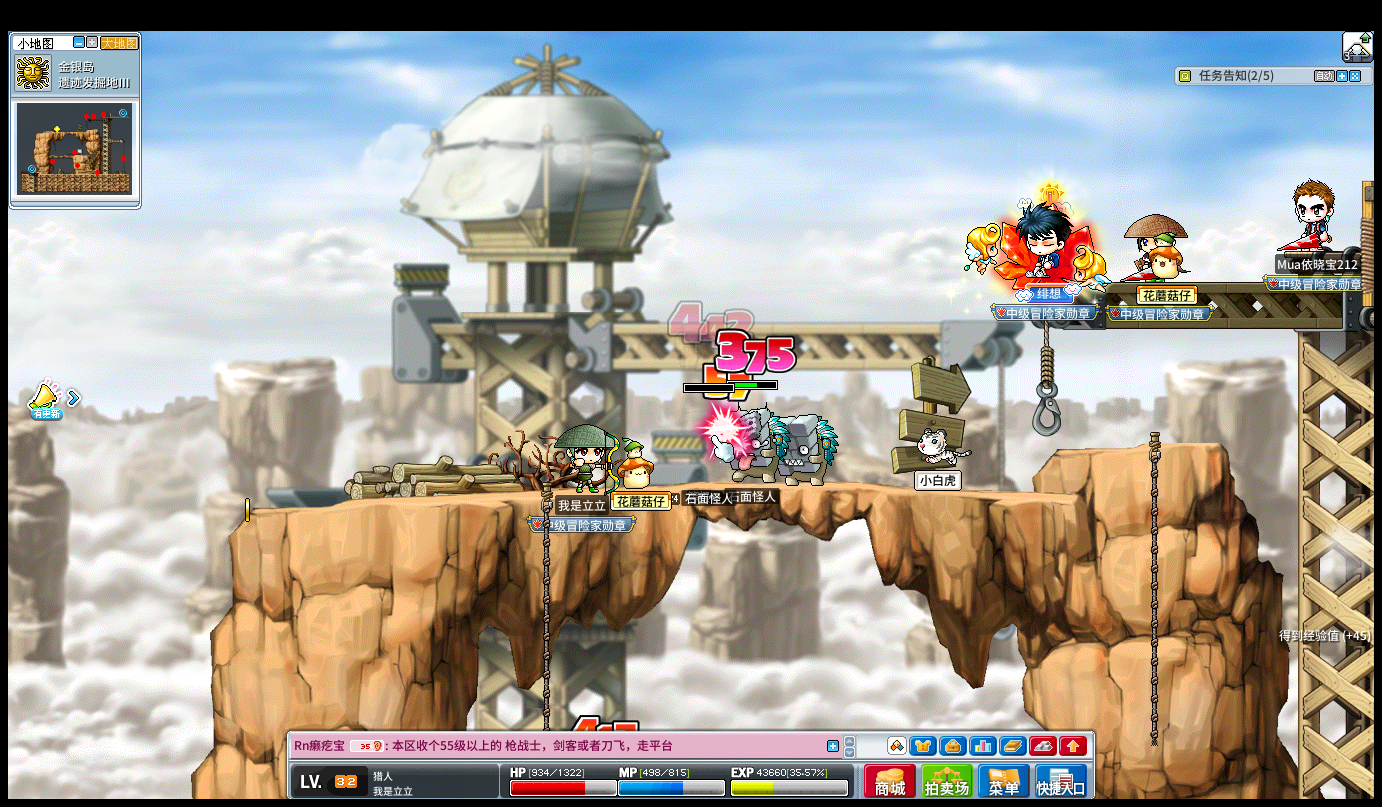floor: (210, 476, 1132, 501), (1052, 437, 1225, 453)
monster: (700, 402, 787, 482), (781, 413, 840, 487)
rope: (1145, 426, 1161, 752), (539, 480, 551, 702)
